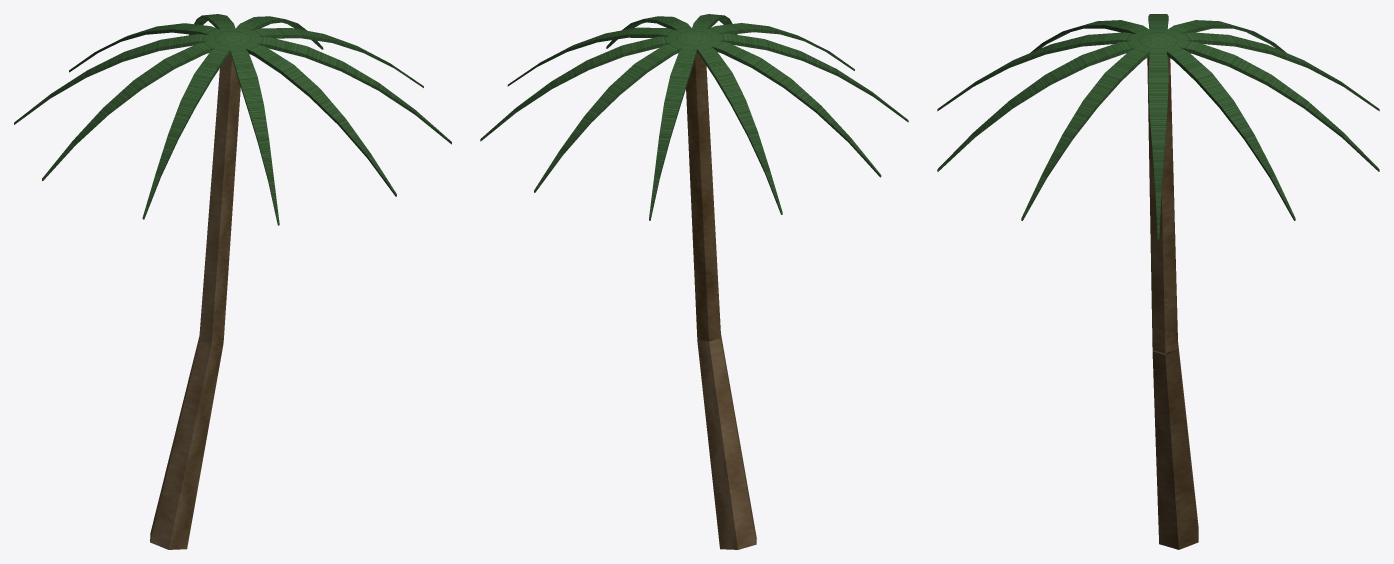
Rendered from ambient_tree_24.glb.
3 views of the same model, side by side, from view 1: azimuth 30°, elevation 25°; view 2: azimuth 150°, elevation 25°; view 3: azimuth 270°, elevation 25° (orthographic). The views are drawn at different scales.
Visible parts, largest first — view 1: ambient_tree_24; view 2: ambient_tree_24; view 3: ambient_tree_24.
Boxes of the visible parts, <box> form: ambient_tree_24: <box>14,14,451,549</box>; ambient_tree_24: <box>480,14,908,549</box>; ambient_tree_24: <box>937,14,1379,549</box>.
Size of the model in its own units: 6.8 by 8.54 by 6.48.
Materials: 2 (2 with a texture image).
